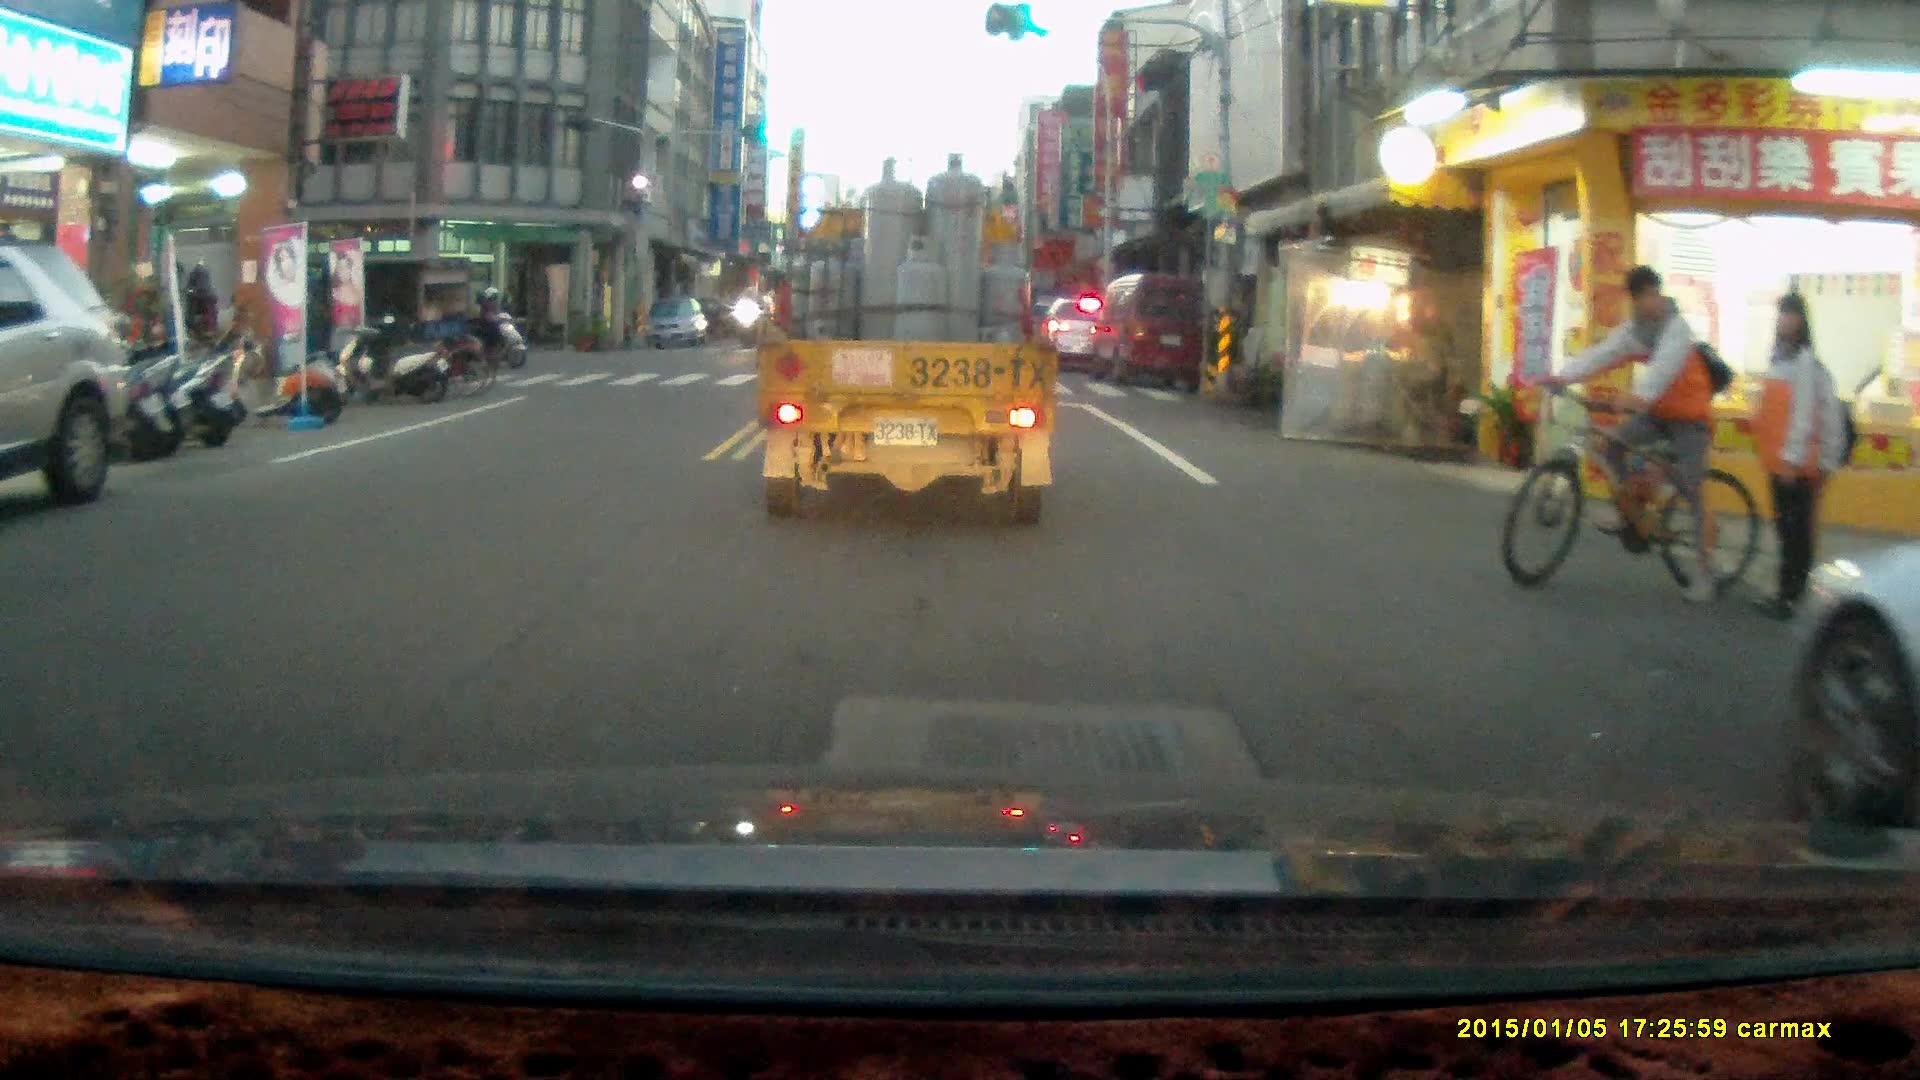pedestrian: (1744, 291, 1826, 619), (182, 263, 218, 374)
rider: (1503, 264, 1760, 608), (457, 283, 524, 371)
vehicle: (753, 161, 1044, 521), (1, 240, 135, 506), (292, 247, 482, 370), (1090, 271, 1213, 389), (1042, 294, 1113, 371), (643, 296, 711, 350)
